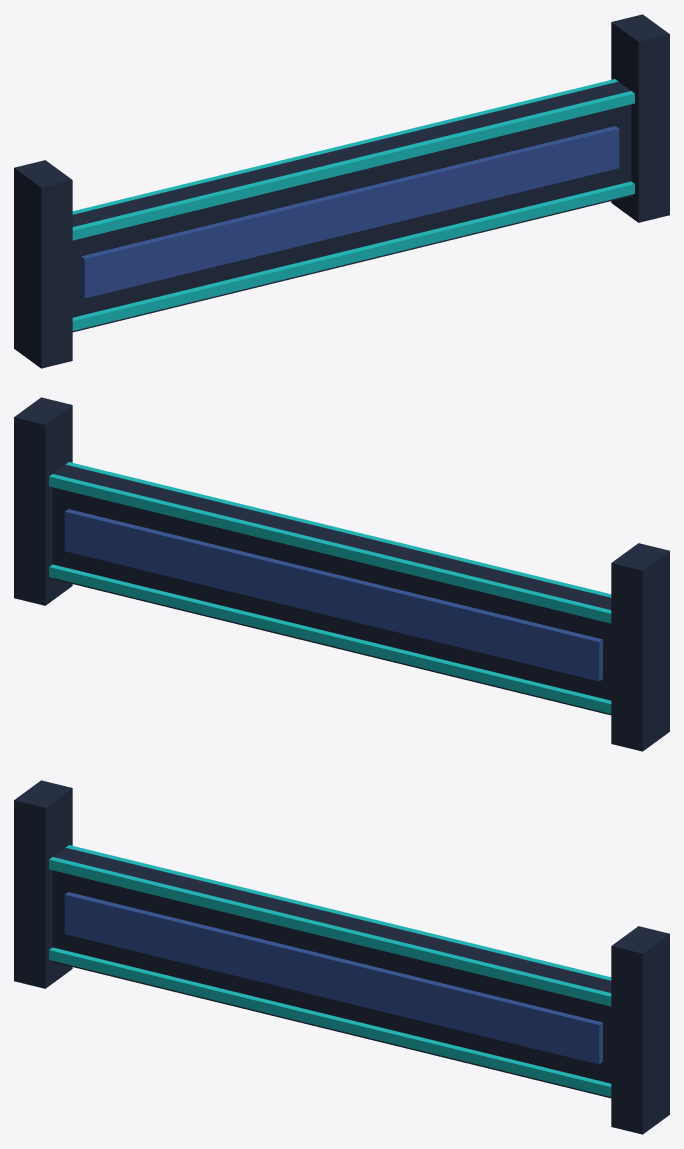
The model's file is Neon_LightBarrier_Standard.glb.
3 views of the same model, one above another, from view 1: azimuth 30°, elevation 25°; view 2: azimuth 150°, elevation 25°; view 3: azimuth 330°, elevation 25° (orthographic).
Parts seen in each view (by area): view 1: Neon_LightBarrier_Standard; view 2: Neon_LightBarrier_Standard; view 3: Neon_LightBarrier_Standard.
Boxes of the visible parts, box(x1,y1,x2,y2) form: Neon_LightBarrier_Standard: box(14, 14, 669, 368); Neon_LightBarrier_Standard: box(14, 397, 669, 751); Neon_LightBarrier_Standard: box(14, 780, 669, 1134).
Size of the model in its own units: 4 by 1.1 by 0.3.
